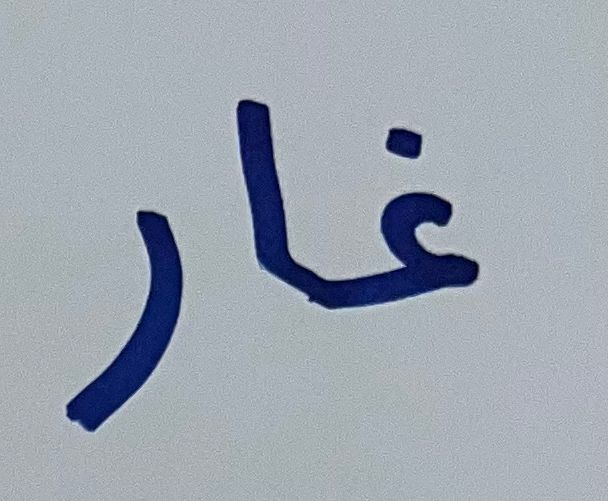alef: (208, 70, 320, 335)
ghain: (327, 104, 508, 361)
reh: (21, 169, 203, 437)
